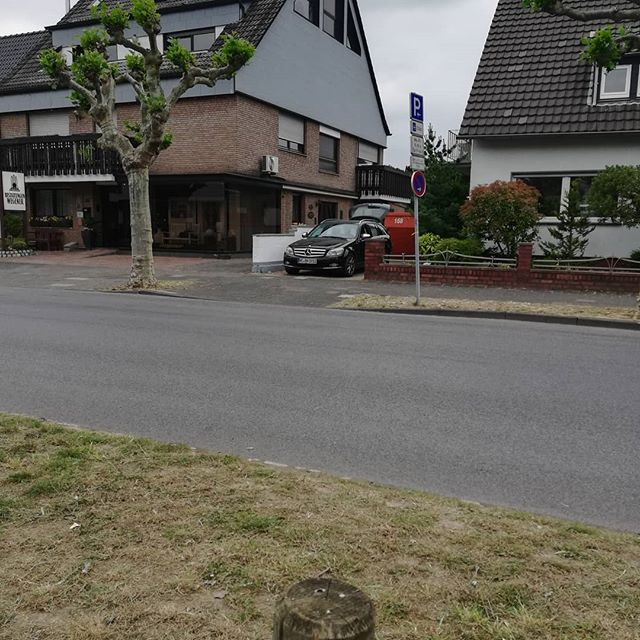building: (1, 1, 366, 245), (478, 1, 640, 267)
car: (270, 218, 394, 280)
grass: (24, 453, 640, 640)
sidewalk: (1, 250, 628, 343)
sign: (407, 81, 428, 201)
street: (7, 289, 626, 522)
tree: (58, 2, 236, 295)
